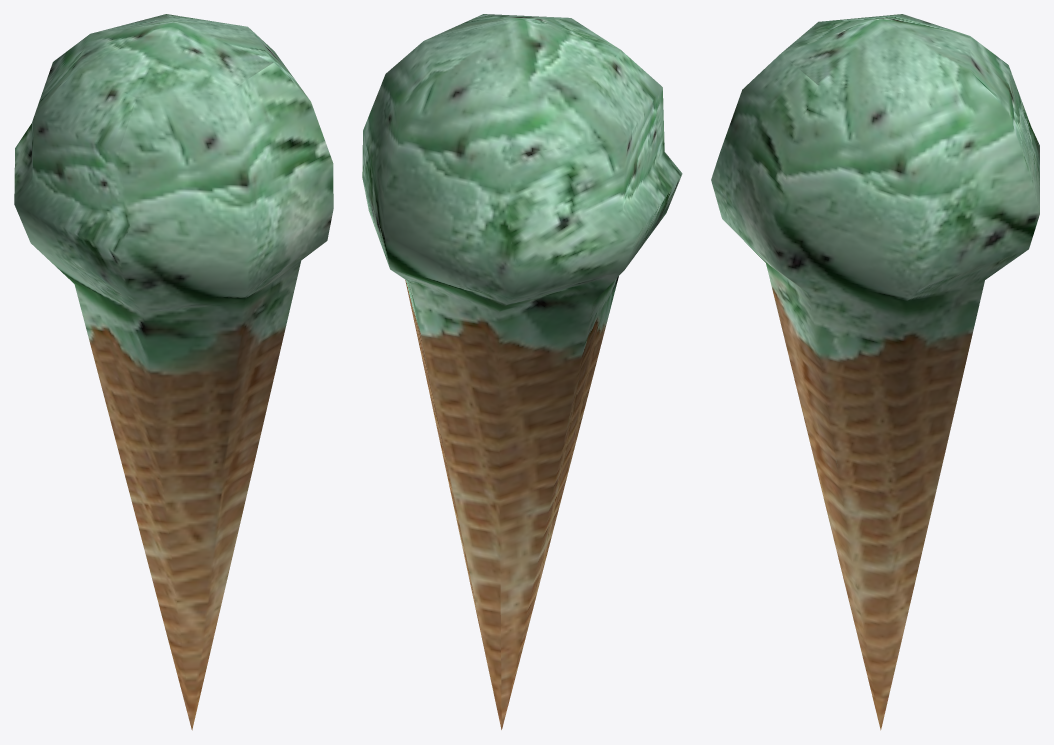
Rendered from Ice_cream_02.fbx.
The picture shows the model from 3 angles, left to right: view 1: azimuth 30°, elevation 25°; view 2: azimuth 150°, elevation 25°; view 3: azimuth 270°, elevation 25°; orthographic projection.
Visible parts, largest first — view 1: Ice_cream_02; view 2: Ice_cream_02; view 3: Ice_cream_02.
Boxes of the visible parts, x1,y1,x2,y2 form: Ice_cream_02: (14, 14, 333, 730); Ice_cream_02: (362, 14, 682, 729); Ice_cream_02: (711, 14, 1039, 730).
Bounding box in the file's own units: 10.08 × 24.96 × 10.59.
